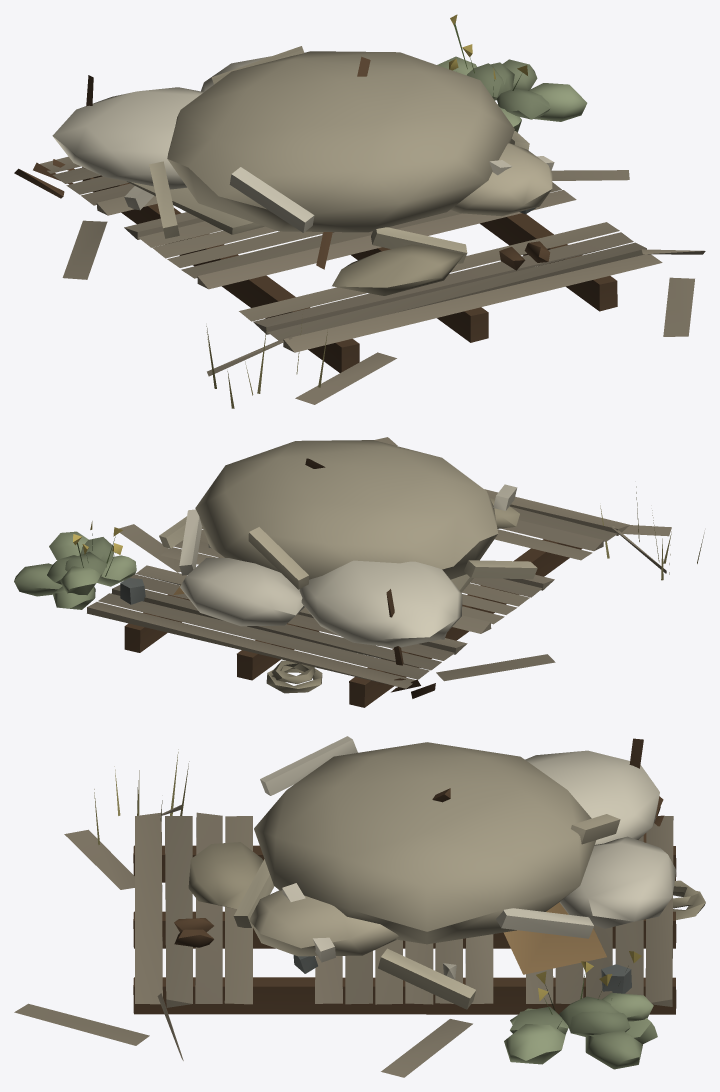
File: survey_tent_b_lod2.glb
3 views of the same model, one above another, from view 1: azimuth 30°, elevation 25°; view 2: azimuth 150°, elevation 25°; view 3: azimuth 270°, elevation 25° (orthographic). The views are drawn at different scales.
Parts seen in each view (by area): view 1: Surface.001; view 2: Surface.001; view 3: Surface.001.
Boxes of the visible parts, x1,y1,x2,y2 form: Surface.001: [14, 14, 705, 408]; Surface.001: [14, 437, 704, 707]; Surface.001: [14, 736, 705, 1077].
Bounding box in the file's own units: 9.03 × 2.59 × 9.33.
